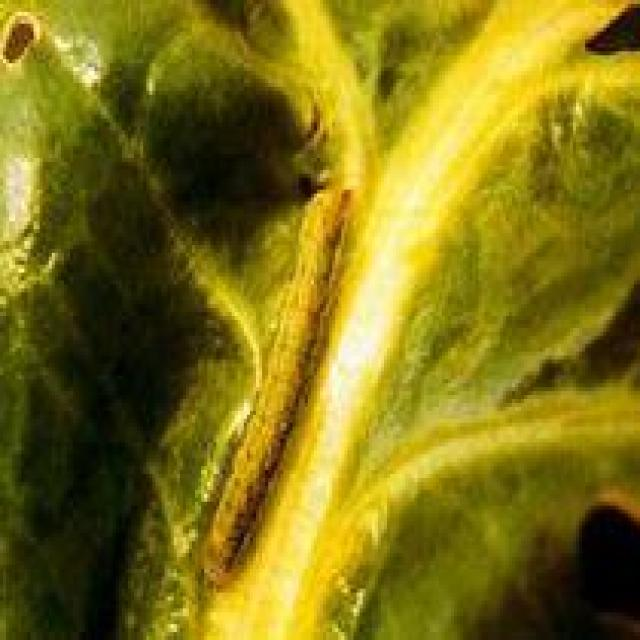BeetArmyWorm-Larva-: (192, 174, 362, 592)
